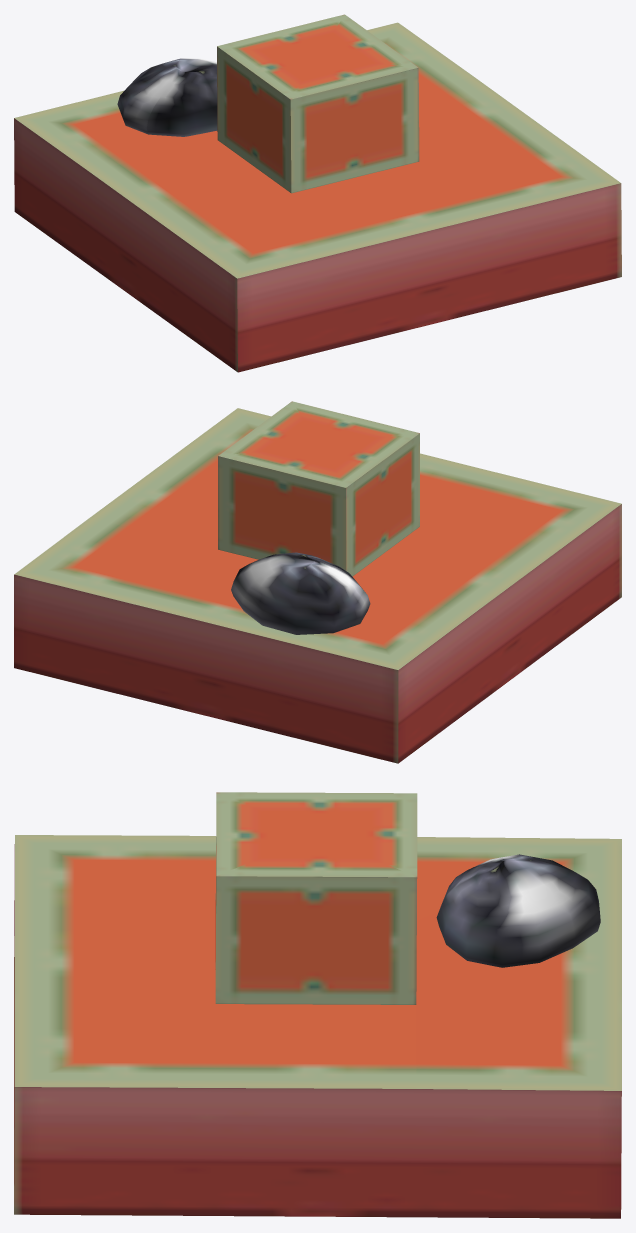
Rendered from ps2mc1.ico.obj.
3 views of the same model, one above another, from view 1: azimuth 30°, elevation 25°; view 2: azimuth 150°, elevation 25°; view 3: azimuth 270°, elevation 25° (orthographic). The views are drawn at different scales.
Bounding box in the file's own units: 3.32 × 1.58 × 3.35.
1 material, 1 textured.
